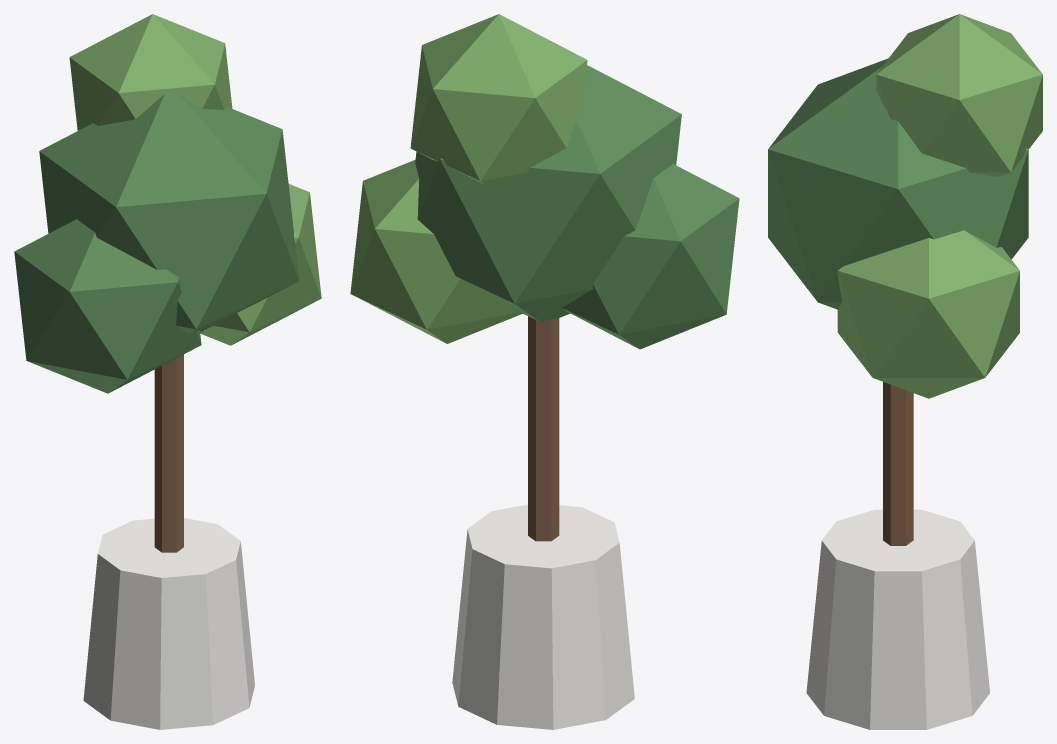
The model's file is tree.glb.
3 views of the same model, side by side, from view 1: azimuth 30°, elevation 25°; view 2: azimuth 150°, elevation 25°; view 3: azimuth 270°, elevation 25° (orthographic). The views are drawn at different scales.
Visible parts, largest first — view 1: Crown0, Pot.001, Crown2, Crown3, Trunk, Crown1; view 2: Pot.001, Crown0, Crown3, Crown2, Crown1, Trunk; view 3: Pot.001, Crown0, Crown1, Crown3, Trunk.
Boxes of the visible parts, x1,y1,x2,y2 form: Crown0: [39, 92, 299, 333]; Pot.001: [83, 518, 254, 729]; Crown2: [14, 219, 201, 393]; Crown3: [69, 14, 232, 130]; Trunk: [154, 354, 183, 552]; Crown1: [200, 184, 321, 345]; Pot.001: [452, 504, 634, 729]; Crown0: [415, 65, 681, 322]; Crown3: [410, 14, 587, 184]; Crown2: [562, 164, 739, 349]; Crown1: [350, 159, 523, 343]; Trunk: [528, 316, 559, 541]; Pot.001: [806, 509, 989, 729]; Crown0: [768, 58, 1028, 309]; Crown1: [837, 230, 1019, 398]; Crown3: [876, 14, 1042, 177]; Trunk: [883, 382, 913, 545].
Size of the model in its own units: 1.24 by 2.47 by 0.8975.
